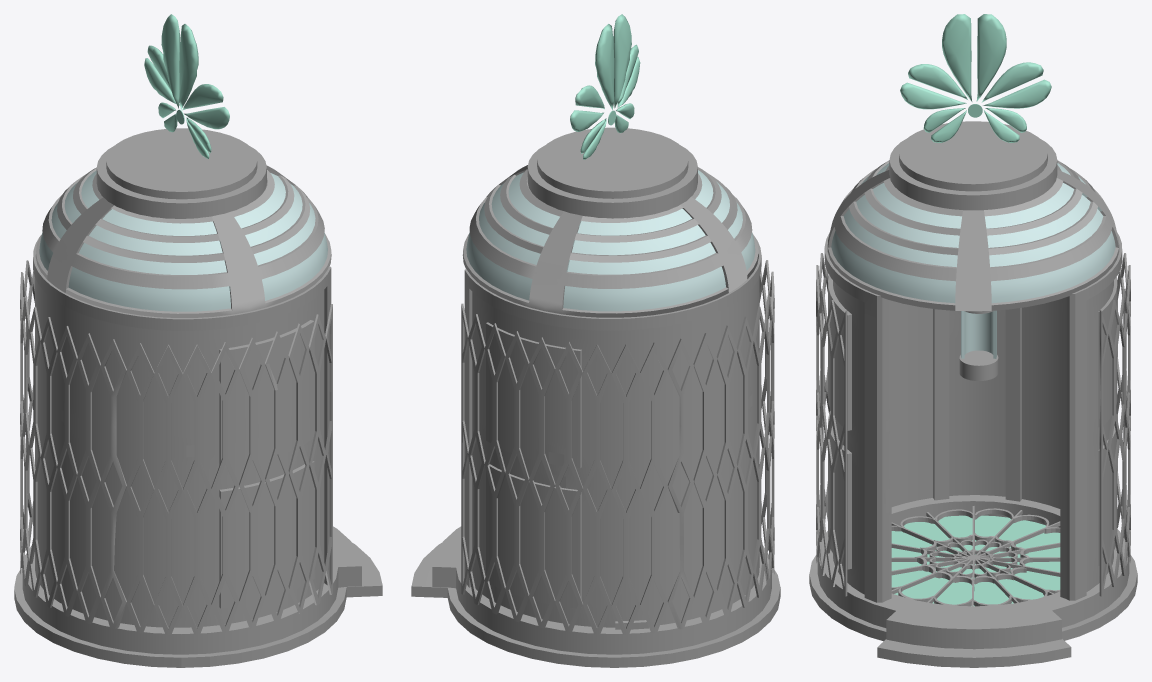
Rendered from Téléport_UV_FINAL.fbx.
The picture shows the model from 3 angles, left to right: view 1: azimuth 30°, elevation 25°; view 2: azimuth 150°, elevation 25°; view 3: azimuth 270°, elevation 25°; orthographic projection.
Visible parts, largest first — view 1: Téléporteur; view 2: Téléporteur; view 3: Téléporteur.
Boxes of the visible parts, bbox=[...] form: Téléporteur: bbox=[14, 14, 382, 667]; Téléporteur: bbox=[411, 14, 780, 667]; Téléporteur: bbox=[809, 14, 1137, 667].
Bounding box in the file's own units: 6.76 × 11.68 × 6.1.
